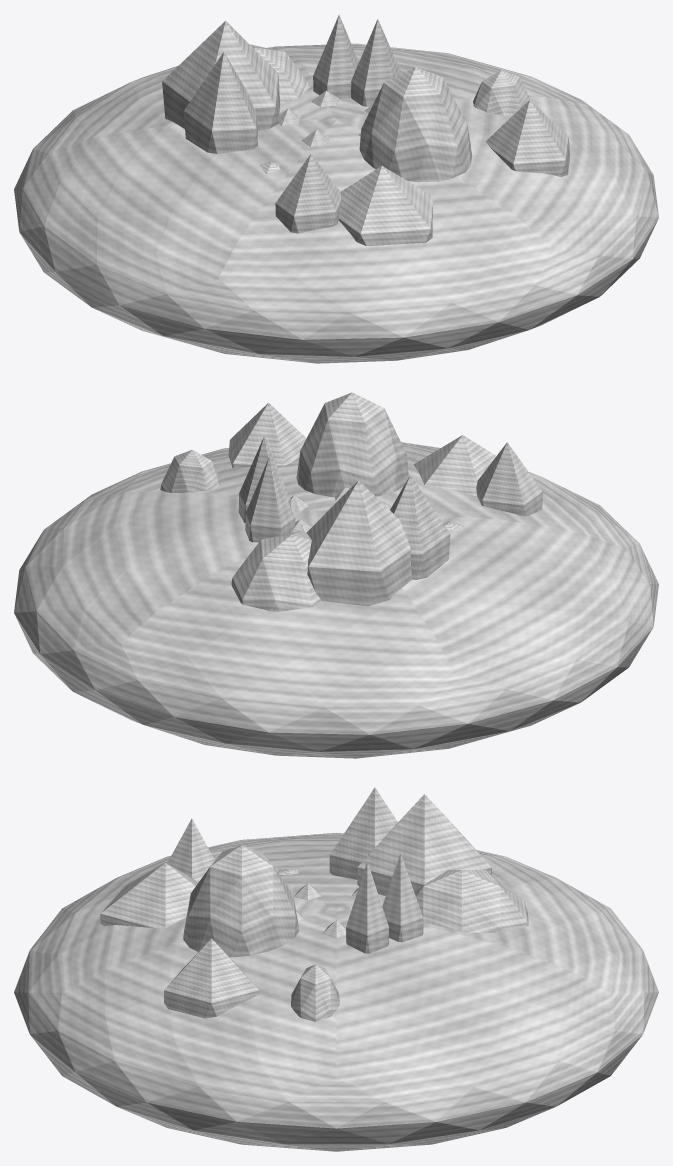
Rendered from caterium_ore_node_variant_b.glb.
3 renders of one model, top to bottom at view 1: azimuth 30°, elevation 25°; view 2: azimuth 150°, elevation 25°; view 3: azimuth 270°, elevation 25°, orthographic.
Parts seen in each view (by area): view 1: Resource node bedrock.001, Exposed ore formation.019, Exposed ore formation.018, Exposed ore formation.014, Exposed ore formation.015, Exposed ore formation.020, Exposed ore formation.017, Exposed ore formation.011, Exposed ore formation.012, Exposed ore formation.010, Exposed ore formation.013; view 2: Resource node bedrock.001, Exposed ore formation.014, Exposed ore formation.019, Exposed ore formation.013, Exposed ore formation.015, Exposed ore formation.017, Exposed ore formation.020, Exposed ore formation.018, Exposed ore formation.012, Exposed ore formation.010, Exposed ore formation.011; view 3: Resource node bedrock.001, Exposed ore formation.019, Exposed ore formation.014, Exposed ore formation.013, Exposed ore formation.020, Exposed ore formation.018, Exposed ore formation.015, Exposed ore formation.011, Exposed ore formation.012, Exposed ore formation.010, Exposed ore formation.017.
Boxes of the visible parts, left/top/right/bottom form: Resource node bedrock.001: left=14, top=43, right=658, bottom=363; Exposed ore formation.019: left=359, top=67, right=472, bottom=182; Exposed ore formation.018: left=338, top=166, right=433, bottom=245; Exposed ore formation.014: left=162, top=20, right=280, bottom=130; Exposed ore formation.015: left=184, top=52, right=257, bottom=153; Exposed ore formation.020: left=485, top=100, right=570, bottom=176; Exposed ore formation.017: left=275, top=154, right=341, bottom=233; Exposed ore formation.011: left=351, top=19, right=401, bottom=106; Exposed ore formation.012: left=313, top=14, right=358, bottom=98; Exposed ore formation.010: left=473, top=70, right=530, bottom=115; Exposed ore formation.013: left=250, top=44, right=310, bottom=103; Resource node bedrock.001: left=14, top=442, right=658, bottom=758; Exposed ore formation.014: left=306, top=480, right=411, bottom=606; Exposed ore formation.019: left=296, top=392, right=408, bottom=497; Exposed ore formation.013: left=231, top=530, right=320, bottom=611; Exposed ore formation.015: left=390, top=475, right=450, bottom=579; Exposed ore formation.017: left=476, top=442, right=542, bottom=516; Exposed ore formation.020: left=228, top=402, right=306, bottom=467; Exposed ore formation.018: left=413, top=435, right=496, bottom=496; Exposed ore formation.012: left=245, top=457, right=295, bottom=542; Exposed ore formation.010: left=160, top=450, right=221, bottom=492; Exposed ore formation.011: left=238, top=437, right=290, bottom=522; Resource node bedrock.001: left=14, top=833, right=658, bottom=1151; Exposed ore formation.019: left=183, top=845, right=298, bottom=957; Exposed ore formation.014: left=357, top=794, right=491, bottom=895; Exposed ore formation.013: left=414, top=870, right=528, bottom=933; Exposed ore formation.020: left=164, top=938, right=258, bottom=1018; Exposed ore formation.018: left=100, top=862, right=198, bottom=927; Exposed ore formation.015: left=329, top=787, right=397, bottom=879; Exposed ore formation.011: left=346, top=861, right=388, bottom=953; Exposed ore formation.012: left=382, top=853, right=423, bottom=942; Exposed ore formation.010: left=291, top=964, right=339, bottom=1021; Exposed ore formation.017: left=167, top=818, right=214, bottom=882.
Size of what is drawn, in the model's own units: 6 by 2.55 by 6.
Materials: 2 (2 with a texture image).
